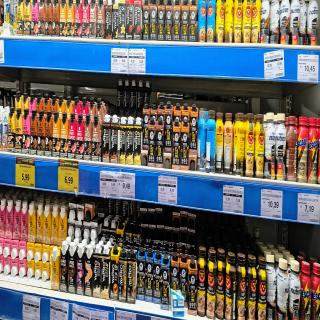Juice: (75, 114, 85, 162), (59, 112, 69, 159), (51, 245, 60, 292), (68, 115, 77, 162), (4, 200, 14, 238), (52, 112, 60, 158), (28, 202, 36, 243), (8, 108, 15, 154), (58, 205, 66, 244), (15, 108, 22, 152), (51, 206, 59, 243), (31, 0, 39, 36), (16, 2, 25, 34), (44, 203, 51, 244), (21, 202, 28, 242), (14, 200, 21, 240), (36, 204, 43, 243), (79, 93, 88, 119), (26, 241, 36, 261), (26, 256, 34, 281), (41, 260, 50, 282), (18, 258, 27, 278), (10, 241, 19, 260), (10, 259, 19, 278), (34, 260, 42, 281), (73, 98, 81, 118), (4, 239, 12, 258), (42, 243, 50, 262), (18, 240, 26, 258), (34, 244, 42, 261), (3, 258, 11, 274), (22, 92, 28, 112), (16, 91, 22, 110)
beverage: (92, 114, 102, 164), (44, 109, 52, 159), (37, 110, 45, 158), (30, 109, 38, 156), (51, 0, 60, 38), (38, 1, 45, 39), (45, 2, 52, 37), (42, 92, 51, 114), (51, 92, 58, 116), (36, 95, 43, 114)
